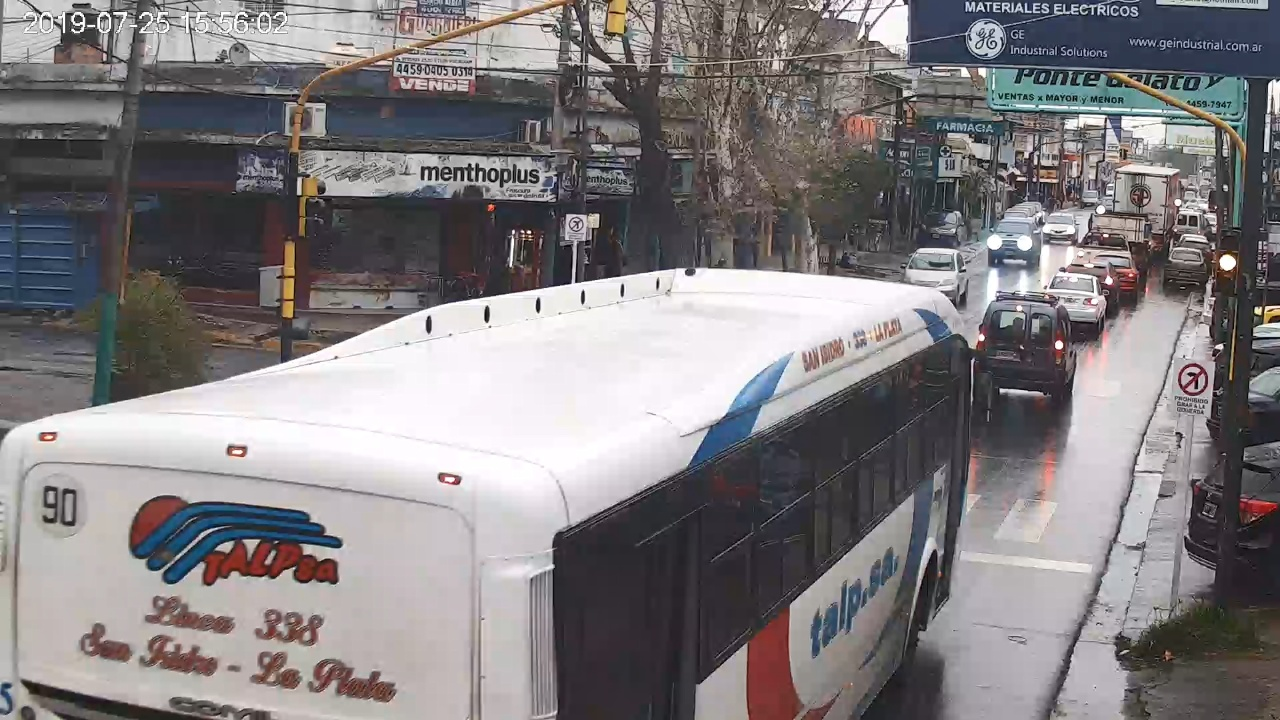bus: (5, 268, 995, 720)
traffic light: (1219, 231, 1237, 294)
